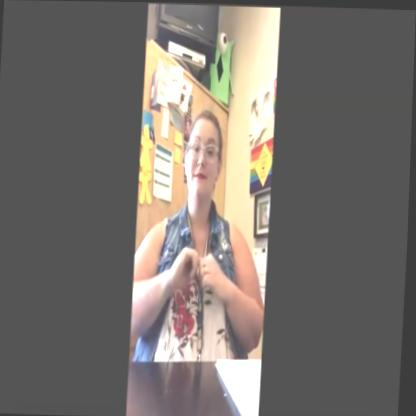HowAreYou: (171, 236, 225, 310)
